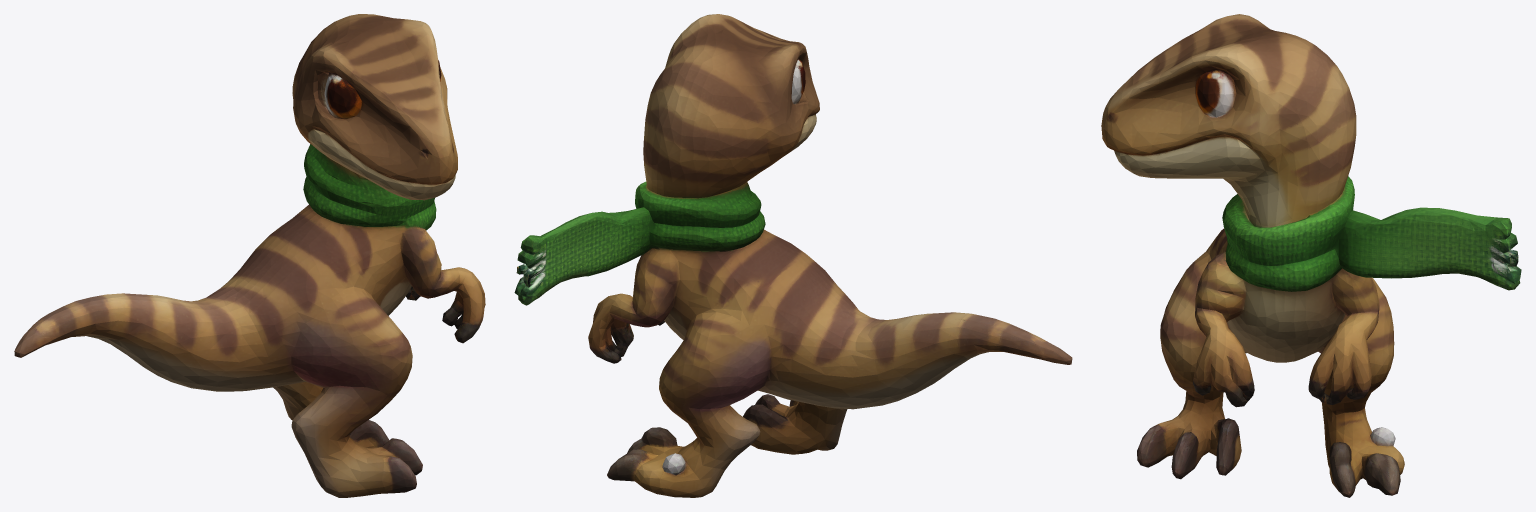
Rendered from image_7.glb.
The picture shows the model from 3 angles, left to right: view 1: azimuth 30°, elevation 25°; view 2: azimuth 150°, elevation 25°; view 3: azimuth 270°, elevation 25°; orthographic projection. The views are drawn at different scales.
Parts seen in each view (by area): view 1: world; view 2: world; view 3: world.
Part boxes in pixels (left/top/right/bottom): world: left=14, top=14, right=485, bottom=497; world: left=514, top=14, right=1072, bottom=497; world: left=1101, top=14, right=1521, bottom=497.
Bounding box in the file's own units: 0.7317 × 0.6726 × 0.5679.
Materials: 1 (1 with a texture image).
